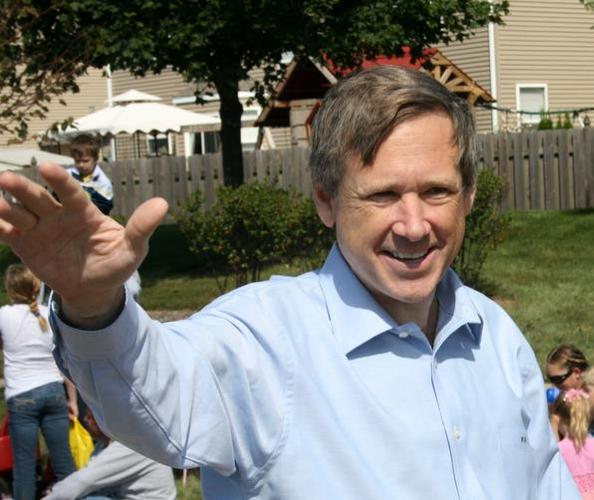person: (1, 66, 584, 500)
